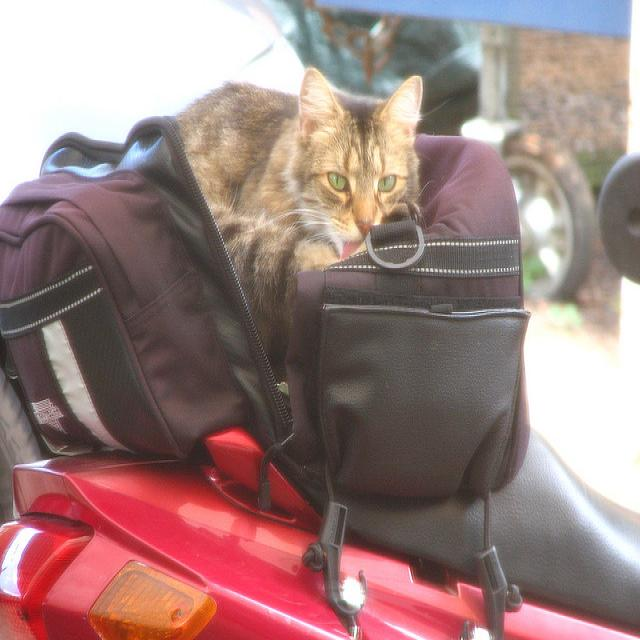motor: (1, 375, 640, 634), (414, 38, 593, 309)
